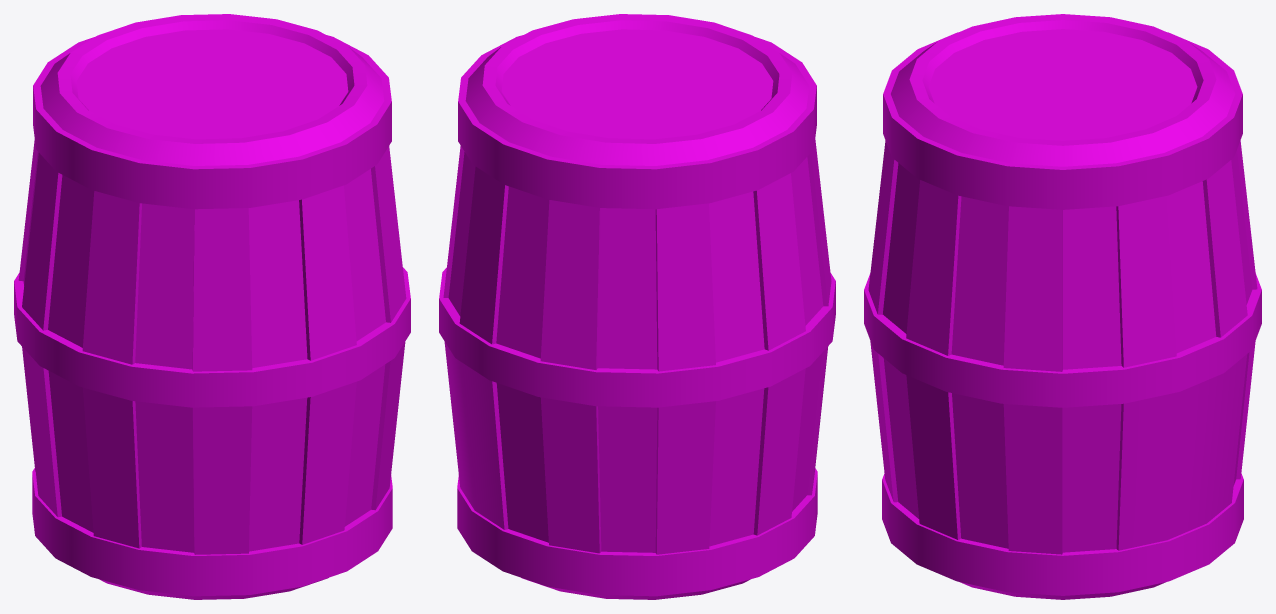
The model's file is BarrelMesh.fbx.
3 renders of one model, left to right at view 1: azimuth 30°, elevation 25°; view 2: azimuth 150°, elevation 25°; view 3: azimuth 270°, elevation 25°, orthographic.
Parts seen in each view (by area): view 1: Barrel11; view 2: Barrel11; view 3: Barrel11.
Boxes of the visible parts, left/top/right/bottom form: Barrel11: left=14, top=14, right=410, bottom=599; Barrel11: left=439, top=14, right=835, bottom=599; Barrel11: left=864, top=14, right=1261, bottom=599.
Bounding box in the file's own units: 22.08 × 27.84 × 22.08.
